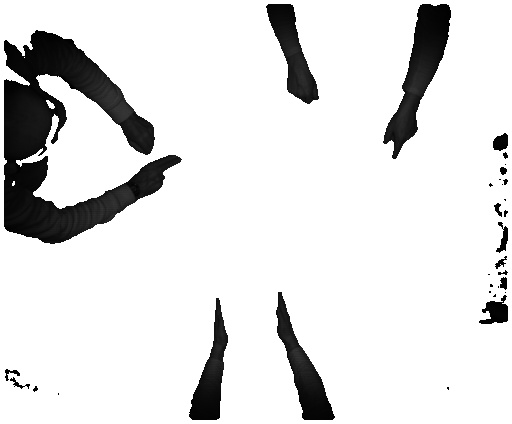fist: (119, 114, 163, 158), (280, 68, 319, 103)
hand: (376, 107, 423, 159), (137, 155, 183, 201)
spine: (272, 288, 303, 343), (208, 296, 231, 348)
